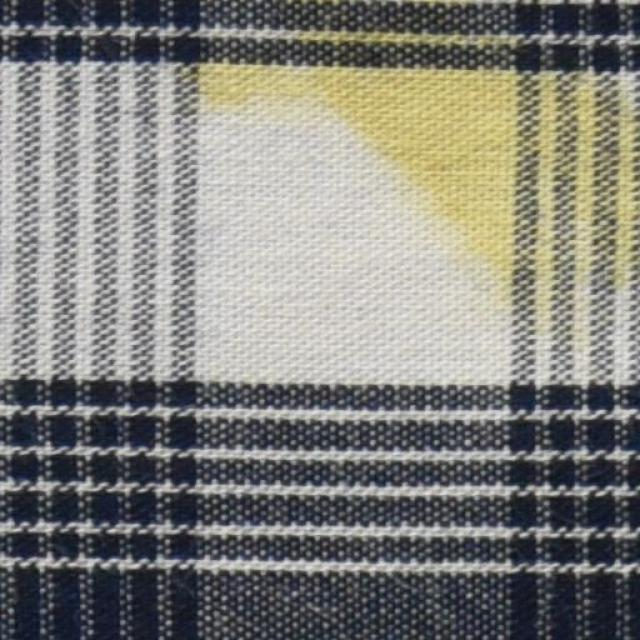Stain: (176, 0, 639, 306)
